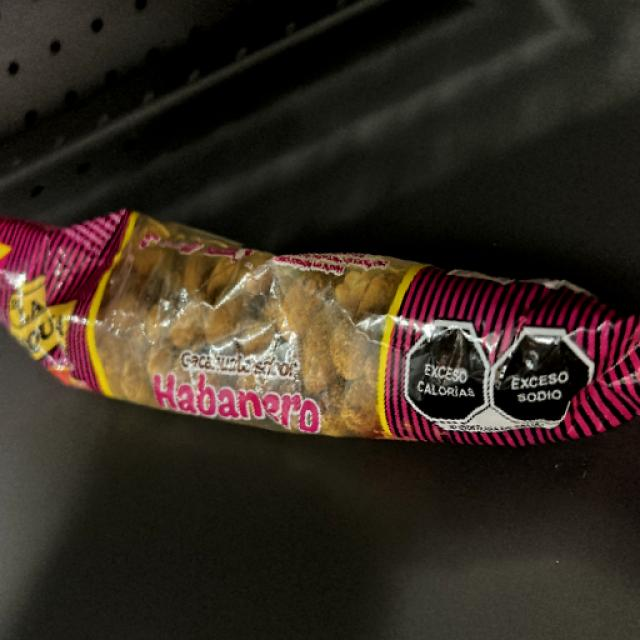bitzHabanero: (43, 220, 621, 440)
